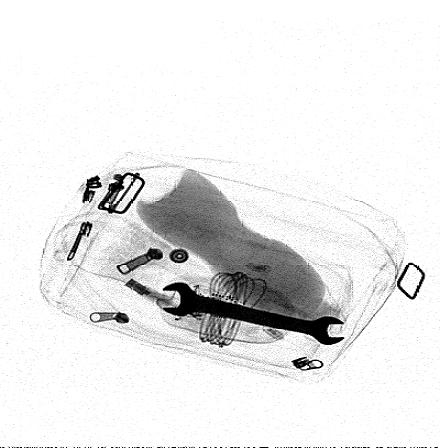Wrench: (159, 282, 348, 346)
